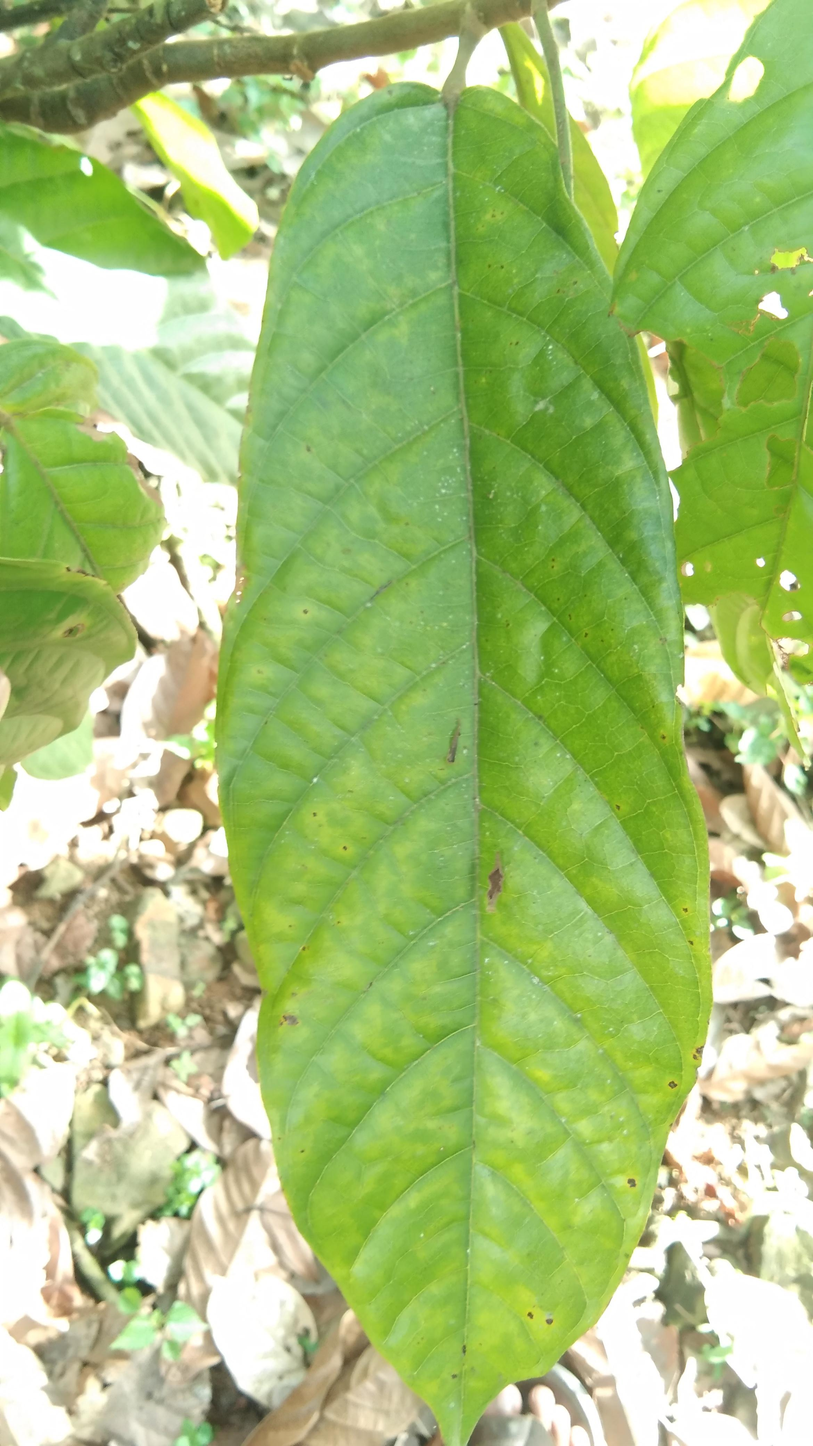deficiencia_potasio: (215, 101, 730, 1422)
